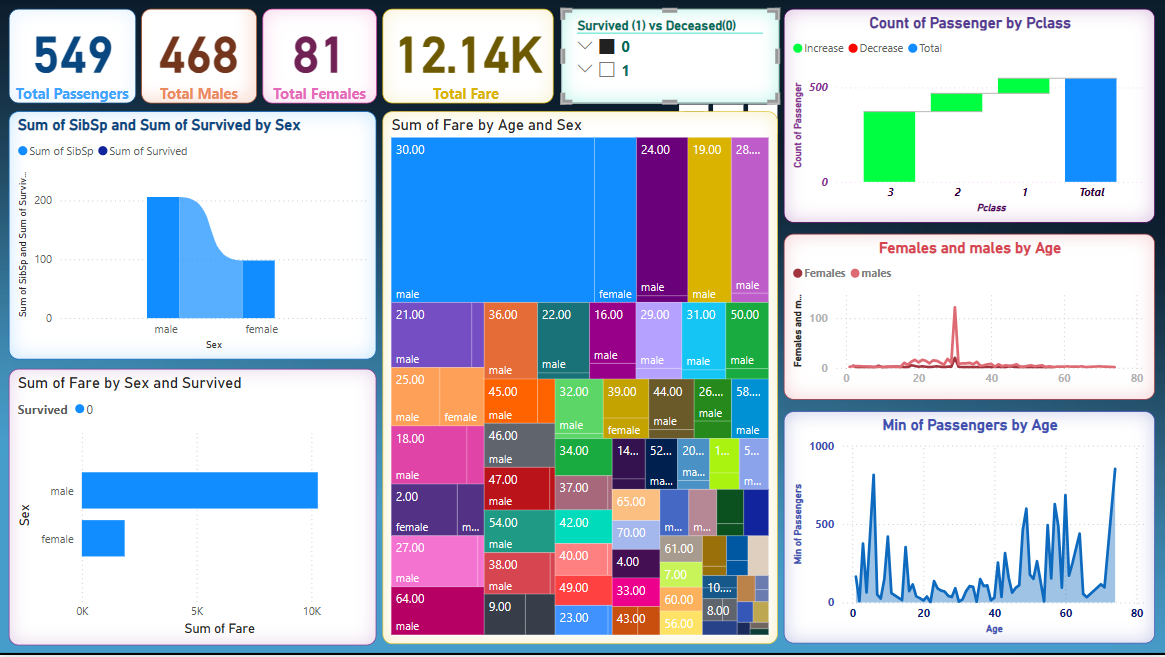

This screenshot's page, from the dashboard's own definition file:
{"tool":"powerbi","page":{"name":"Page 1","canvas":[1280,720],"ordinal":0},"visuals":[{"type":"card","fields":{"Values":["CountNonNull(Titanic-Dataset.PassengerId)"]},"box":[10,10,139.8,104.2],"z":0},{"type":"card","fields":{"Values":["CountNonNull(Titanic-Dataset.Sex - Copy)"]},"box":[155.5,10,127,104.2],"z":1000},{"type":"card","fields":{"Values":["CountNonNull(Titanic-Dataset.Sex - Copy.1)"]},"box":[288.2,10,125.6,104.2],"z":2000},{"type":"slicer","fields":{"Values":["Titanic-Dataset.Survived","Titanic-Dataset.PassengerId"]},"box":[616.5,10,239.7,104.2],"z":3000},{"type":"lineChart","fields":{"Category":["Titanic-Dataset.Age"],"Y":["CountNonNull(Titanic-Dataset.Sex - Copy.1)","CountNonNull(Titanic-Dataset.Sex - Copy)"]},"box":[861.9,256.9,408.1,182.7],"z":4000},{"type":"card","fields":{"Values":["Sum(Titanic-Dataset.Fare)"]},"box":[421,10,188.4,104.2],"z":5000},{"type":"areaChart","fields":{"Category":["Titanic-Dataset.Age"],"Y":["Min(Titanic-Dataset.PassengerId)"]},"box":[861.9,452.4,408.1,255.4],"z":6000},{"type":"waterfallChart","fields":{"Y":["CountNonNull(Titanic-Dataset.PassengerId)"],"Category":["Titanic-Dataset.Pclass"]},"box":[861.9,10,408.1,235.5],"z":6001},{"type":"ribbonChart","fields":{"Y":["Sum(Titanic-Dataset.SibSp)","Sum(Titanic-Dataset.Survived)"],"Category":["Titanic-Dataset.Sex"]},"box":[10,122.7,403.8,272.6],"z":6002},{"type":"treemap","fields":{"Details":["Titanic-Dataset.Sex"],"Group":["Titanic-Dataset.Age"],"Values":["Sum(Titanic-Dataset.Fare)"]},"box":[420.5,122.6,434.7,585.8],"z":6003},{"type":"clusteredBarChart","fields":{"Y":["Sum(Titanic-Dataset.Fare)"],"Category":["Titanic-Dataset.Sex"],"Series":["Titanic-Dataset.Survived"]},"box":[10,405.3,403.8,303.9],"z":6004}]}

Visuals, with their boxes in screenshot pixels (x1, y1, x2, y2), scaled from the page's 1280x720 canvas onto the 1165x657 screenshot:
card - CountNonNull(Titanic-Dataset.PassengerId): left=9, top=9, right=136, bottom=104
card - CountNonNull(Titanic-Dataset.Sex - Copy): left=142, top=9, right=257, bottom=104
card - CountNonNull(Titanic-Dataset.Sex - Copy.1): left=262, top=9, right=377, bottom=104
slicer - Titanic-Dataset.Survived x Titanic-Dataset.PassengerId: left=561, top=9, right=779, bottom=104
lineChart - Titanic-Dataset.Age x CountNonNull(Titanic-Dataset.Sex - Copy.1): left=784, top=234, right=1156, bottom=401
card - Sum(Titanic-Dataset.Fare): left=383, top=9, right=555, bottom=104
areaChart - Titanic-Dataset.Age x Min(Titanic-Dataset.PassengerId): left=784, top=413, right=1156, bottom=646
waterfallChart - CountNonNull(Titanic-Dataset.PassengerId) x Titanic-Dataset.Pclass: left=784, top=9, right=1156, bottom=224
ribbonChart - Sum(Titanic-Dataset.SibSp) x Sum(Titanic-Dataset.Survived): left=9, top=112, right=377, bottom=361
treemap - Titanic-Dataset.Sex x Titanic-Dataset.Age: left=383, top=112, right=778, bottom=646
clusteredBarChart - Sum(Titanic-Dataset.Fare) x Titanic-Dataset.Sex: left=9, top=370, right=377, bottom=647
